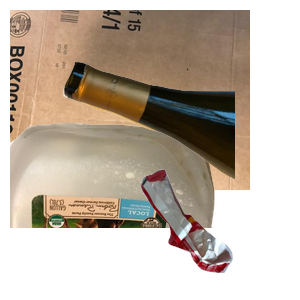cardboard: (10, 10, 250, 190)
glass: (60, 59, 300, 231)
plastic: (10, 120, 220, 300)
trash: (139, 167, 300, 300)
